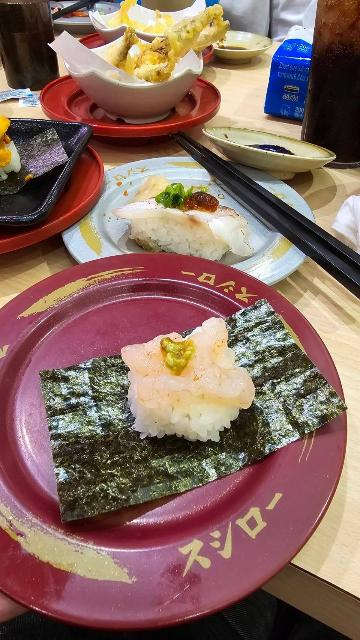janred: (21, 287, 292, 606), (41, 71, 246, 140), (8, 133, 97, 248), (116, 16, 223, 68)
janwhite: (84, 139, 304, 275)
